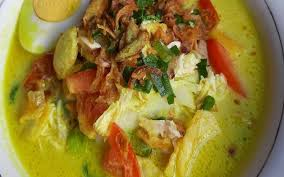soto: (3, 1, 277, 174)
